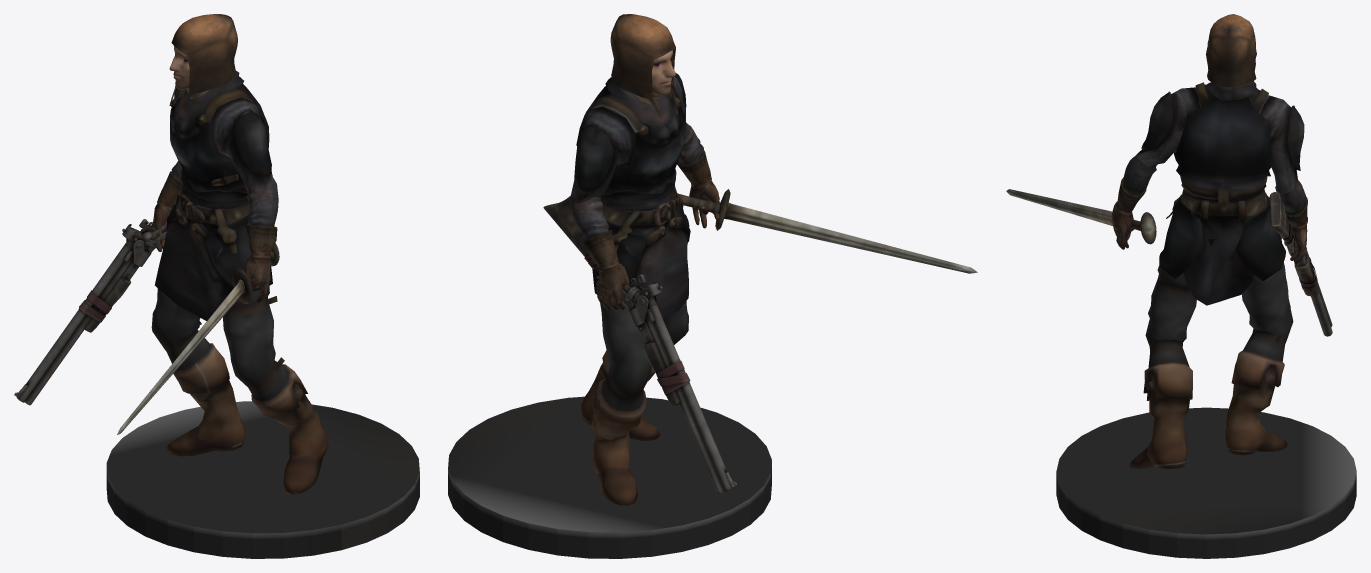
The picture shows the model from 3 angles, left to right: view 1: azimuth 30°, elevation 25°; view 2: azimuth 150°, elevation 25°; view 3: azimuth 270°, elevation 25°; orthographic projection. The views are drawn at different scales.
Visible parts, largest first — view 1: gatekeepermedium_body.smd; view 2: gatekeepermedium_body.smd; view 3: gatekeepermedium_body.smd.
Part boxes in pixels (<box>): gatekeepermedium_body.smd: <box>14,14,419,558</box>; gatekeepermedium_body.smd: <box>448,14,977,558</box>; gatekeepermedium_body.smd: <box>1006,14,1356,558</box>.
Bounding box in the file's own units: 1.42 × 1.68 × 1.17.
1 material, 1 textured.
